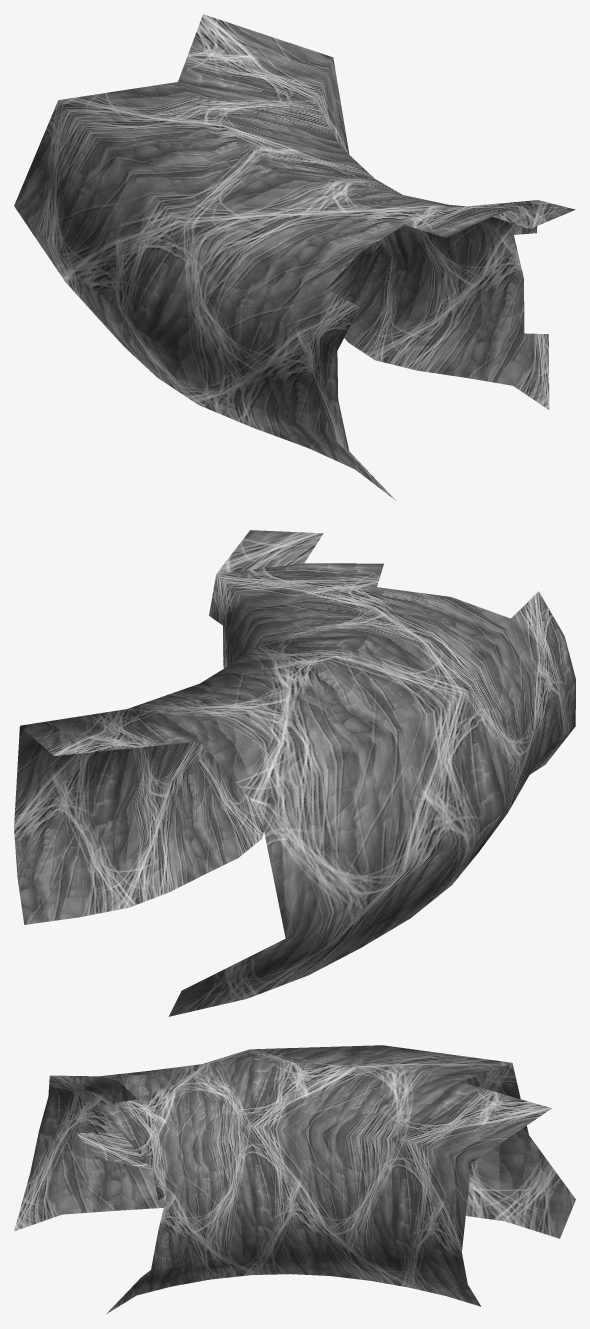
File: SWORDLIGHT20_PS-AREA01_24.fbx
The picture shows the model from 3 angles, top to bottom: view 1: azimuth 30°, elevation 25°; view 2: azimuth 150°, elevation 25°; view 3: azimuth 270°, elevation 25°; orthographic projection. The views are drawn at different scales.
Visible parts, largest first — view 1: SWORDLIGHT20_PS-AREA01_24; view 2: SWORDLIGHT20_PS-AREA01_24; view 3: SWORDLIGHT20_PS-AREA01_24.
Part boxes in pixels (x1,y1,x2,y2): SWORDLIGHT20_PS-AREA01_24: (14, 14, 575, 500); SWORDLIGHT20_PS-AREA01_24: (14, 530, 575, 1016); SWORDLIGHT20_PS-AREA01_24: (14, 1045, 575, 1313).
Bounding box in the file's own units: 87521 × 55302 × 155413.
Materials: 1 (1 with a texture image).
